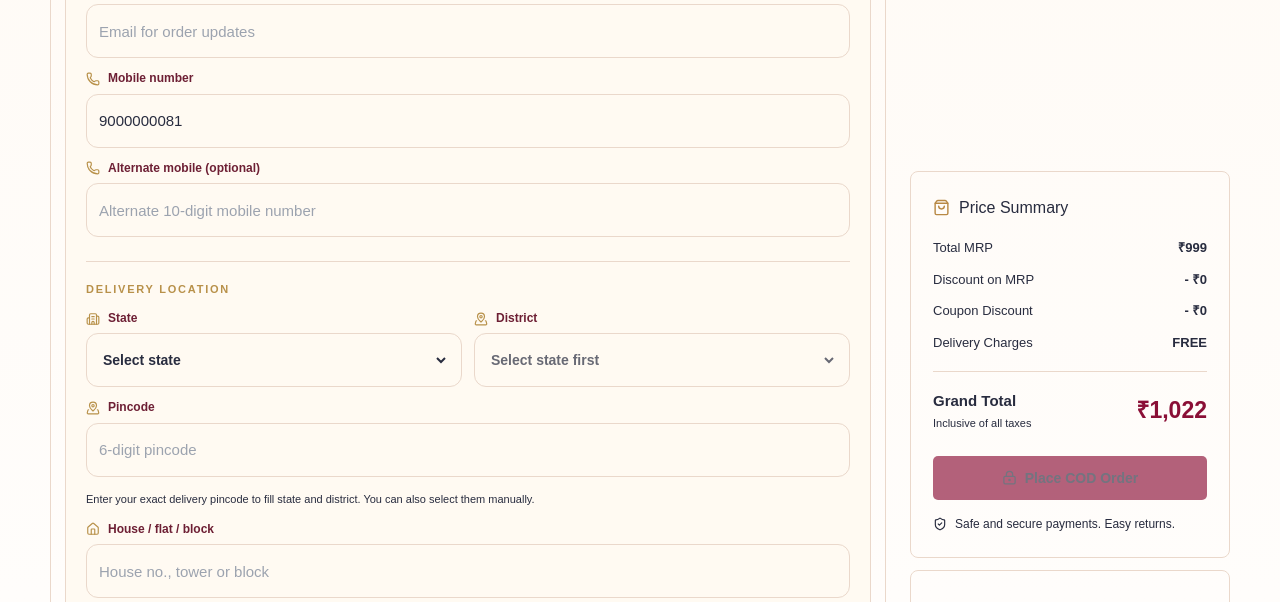
Test: new checkout address fields use borderless inner controls at 1280px
This screenshot has width=1280, height=602.
(page scrolled)
expect the field labelled "Email (optional)" is empty: met, box left=99, top=9, right=837, bottom=53
expect the dropdown labelled "District" is disabled: met, box left=487, top=338, right=837, bottom=382
Step 1. Select "Delhi" in the dropdown labelled "State" → (274, 360), box left=99, top=338, right=449, bottom=382
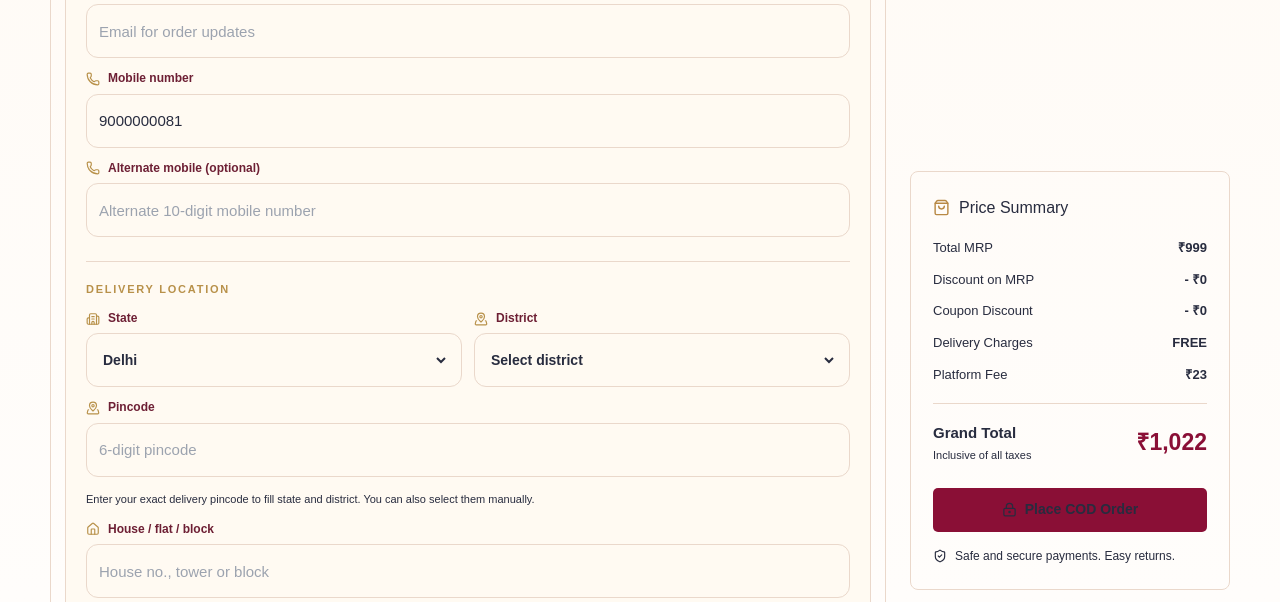
expect the dropdown labelled "District" is enabled: met, box left=487, top=338, right=837, bottom=382
